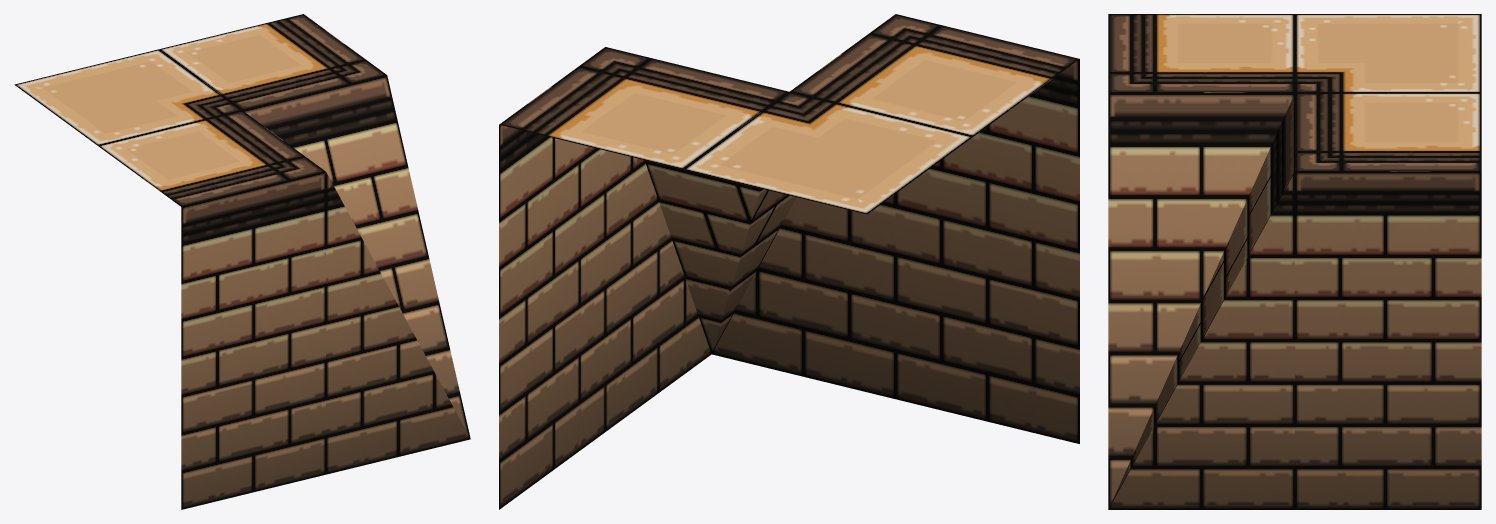
The model's file is wall_cornerInCap_AB.FBX.
The picture shows the model from 3 angles, left to right: view 1: azimuth 30°, elevation 25°; view 2: azimuth 150°, elevation 25°; view 3: azimuth 270°, elevation 25°; orthographic projection. The views are drawn at different scales.
Parts seen in each view (by area): view 1: wall_cornerInCap_AB; view 2: wall_cornerInCap_AB; view 3: wall_cornerInCap_AB.
Boxes of the visible parts, x1,y1,x2,y2 form: wall_cornerInCap_AB: (14, 14, 470, 509); wall_cornerInCap_AB: (499, 14, 1079, 509); wall_cornerInCap_AB: (1108, 14, 1481, 509).
Bounding box in the file's own units: 4 × 4 × 4.
Materials: 1 (1 with a texture image).
